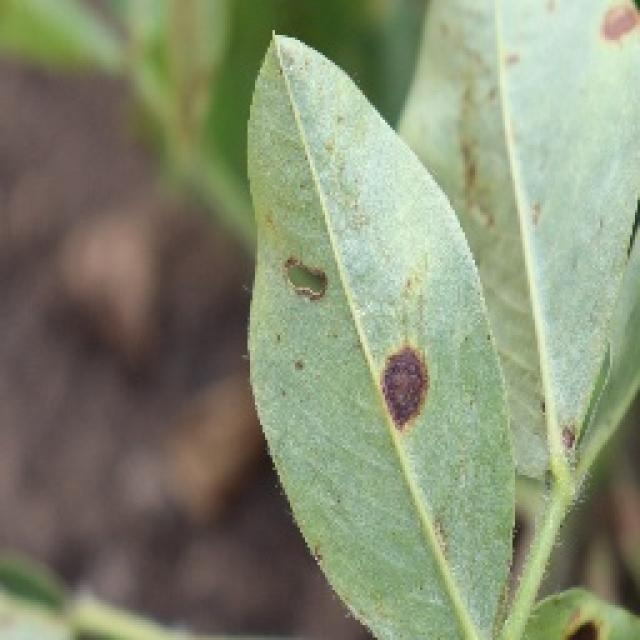Yellowish: (258, 236, 442, 440), (414, 42, 518, 246), (520, 0, 640, 102), (506, 378, 599, 507)
